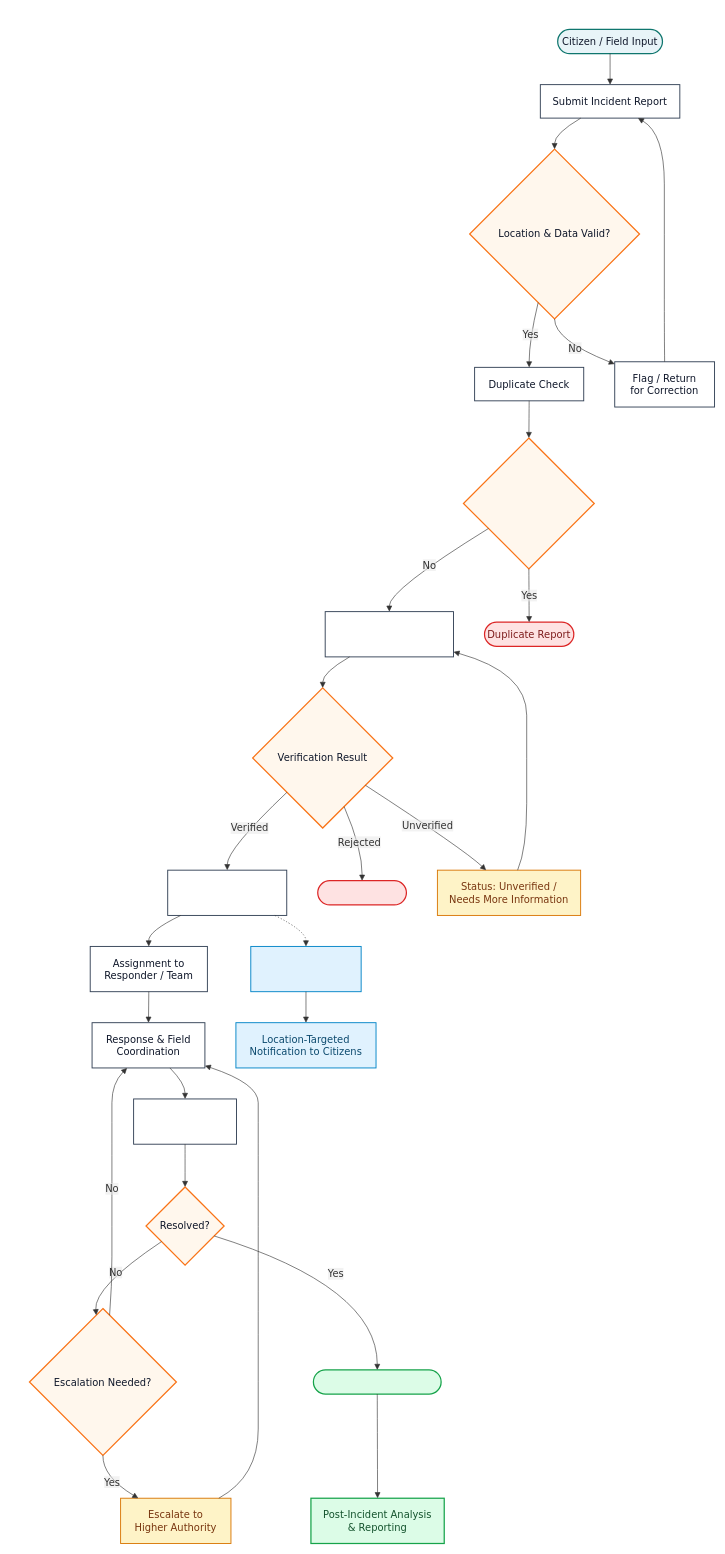
The diagram is 725 pixels wide and 1554 high, and some of its shapes have lost their labels. Here are the shapes that lost their labels. From the top down, the box of each, then its label:
(463, 437, 595, 569): Duplicate Found?
(324, 611, 454, 657): Verification & Triage by Authorized Staff
(167, 869, 287, 916): Severity & Priority Assessment
(317, 880, 407, 905): Status: Rejected
(250, 946, 361, 992): Authorities Issue Verified Alert
(133, 1098, 237, 1144): Status Update: In Progress
(312, 1369, 441, 1394): Status: Resolved / Closed
